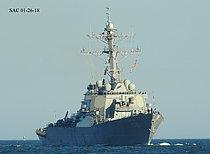MIL_Ship: (35, 5, 163, 145)
